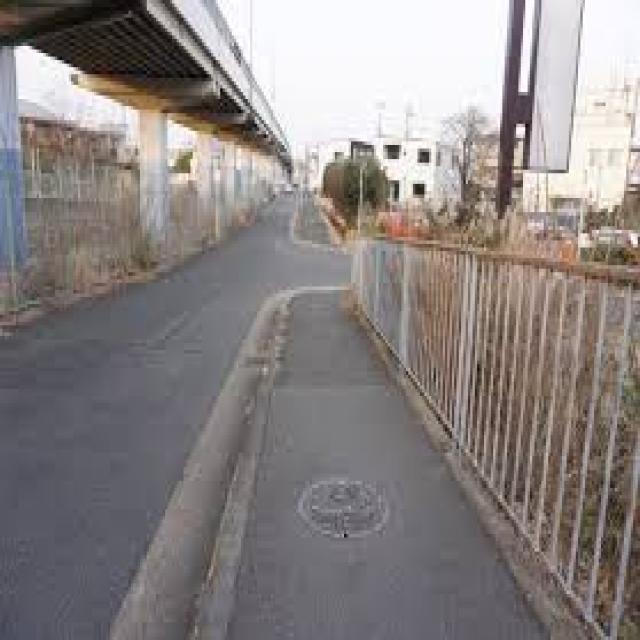manhole: (296, 476, 391, 540)
